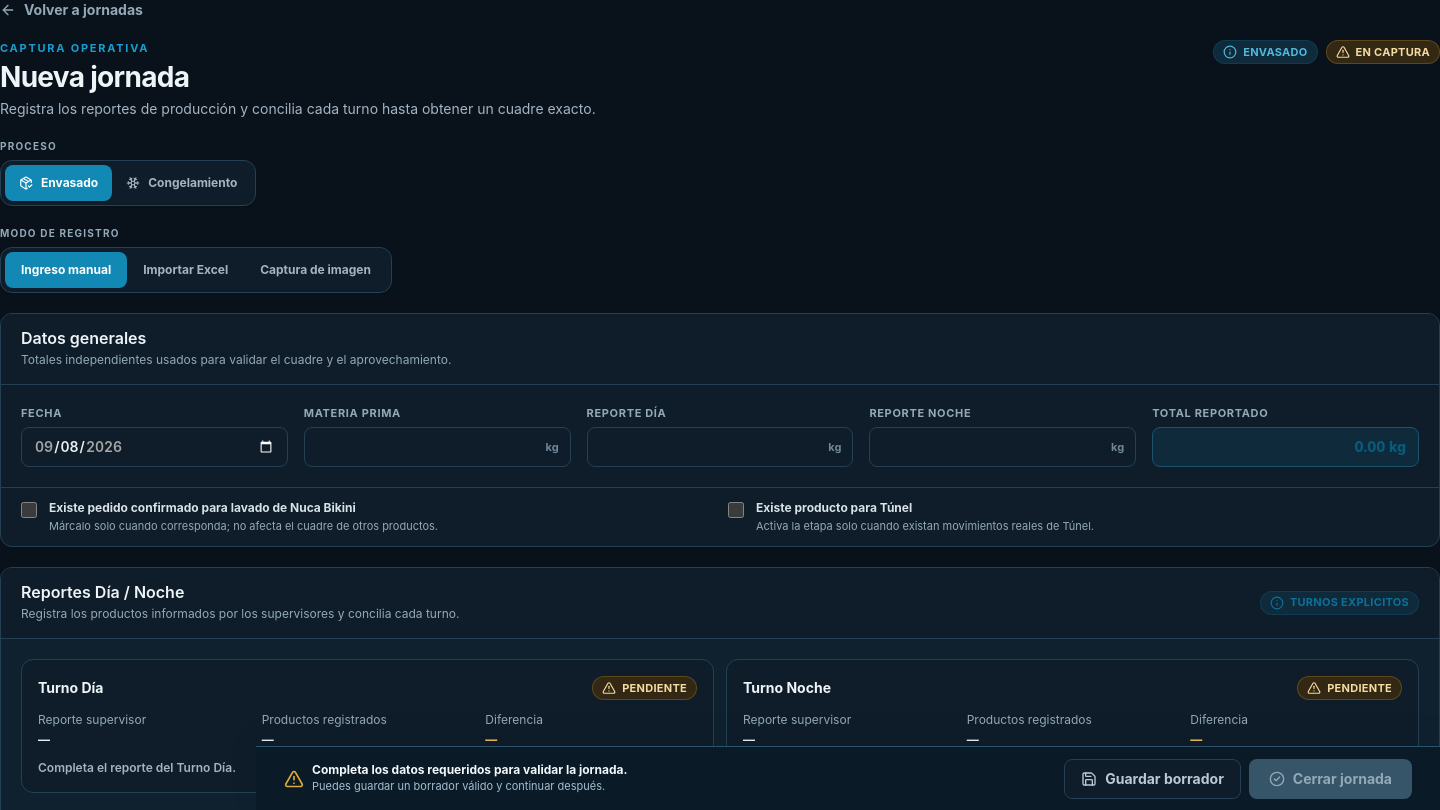
it: ProductionEntryPage product selector › shows Tunnel only after its condition is enabled
The width and height of the screenshot is (1440, 810).
Click the checkbox labelled "Existe producto para Túnel".
click(736, 510)  # box [728,502,744,518]
(page scrolled)
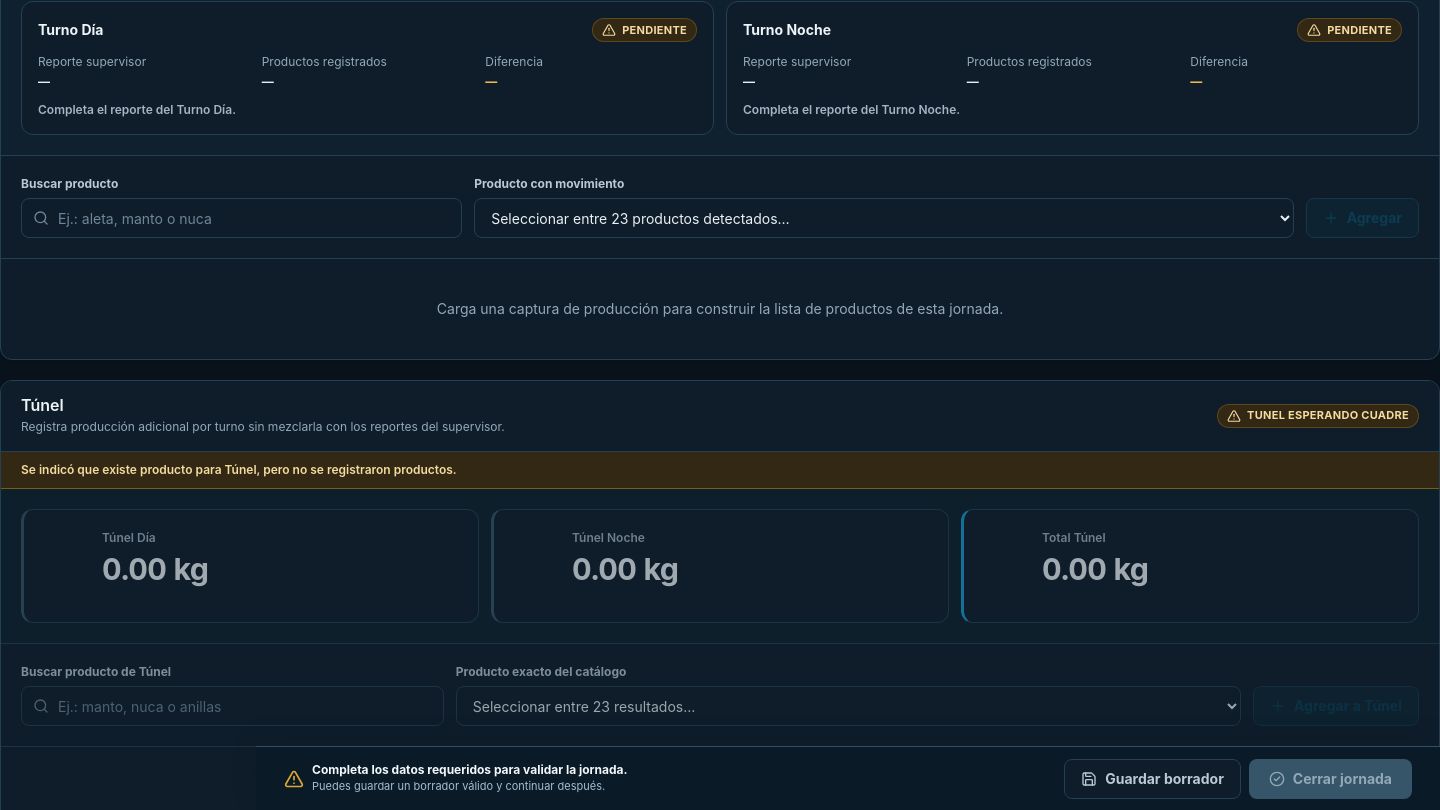
Expected: the heading "Túnel" is shown, [21,395,64,415]
